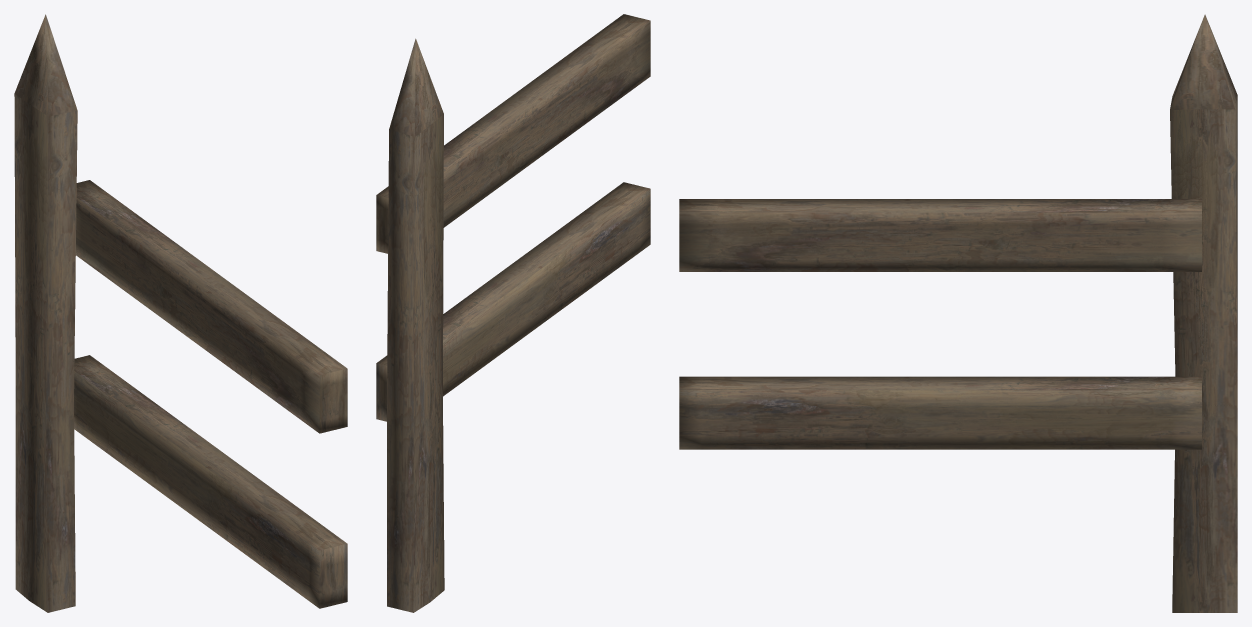
3 renders of one model, left to right at view 1: azimuth 30°, elevation 25°; view 2: azimuth 150°, elevation 25°; view 3: azimuth 270°, elevation 25°, orthographic. The views are drawn at different scales.
Parts seen in each view (by area): view 1: 1009; view 2: 1009; view 3: 1009.
Boxes of the visible parts, box(x1,y1,x2,y2) form: 1009: box(14, 14, 347, 612); 1009: box(376, 14, 650, 612); 1009: box(679, 14, 1237, 612).
Bounding box in the file's own units: 0.167 × 1.6 × 1.37.
1 material, 1 textured.
